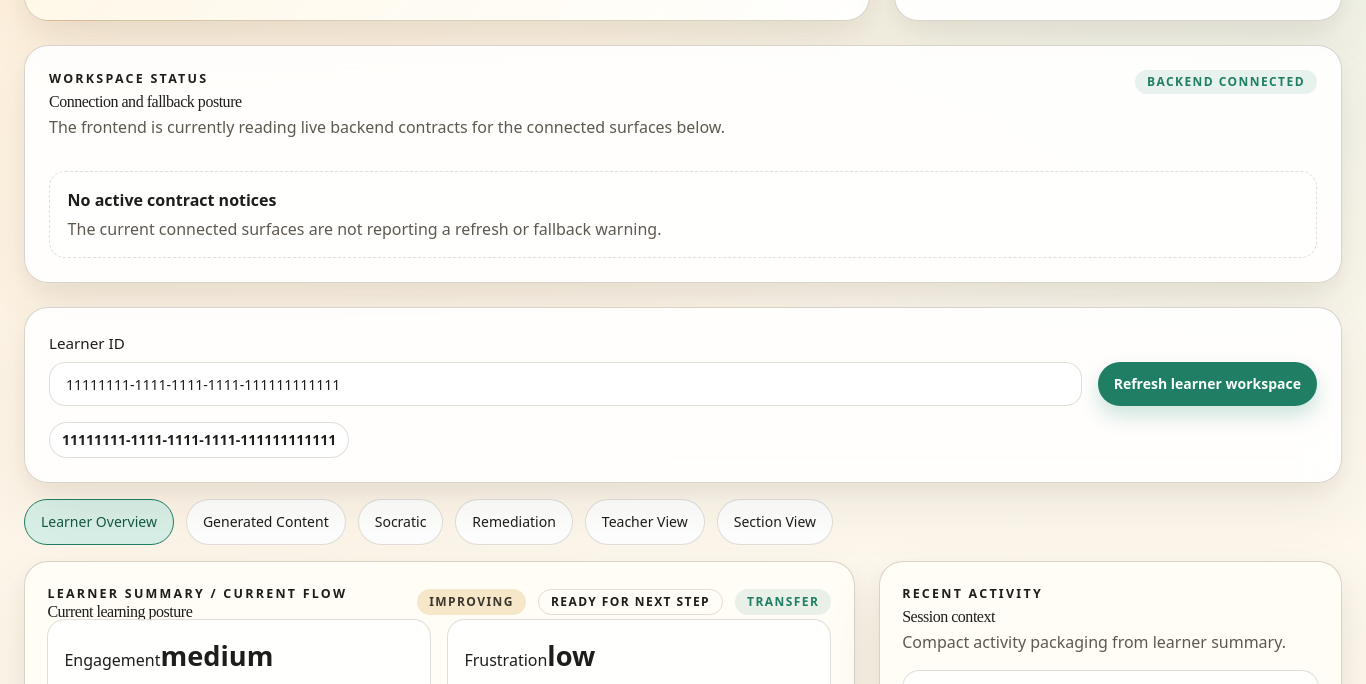
App › keeps shell fallback posture honest when classroom refresh drops to demo after a live boot
(page scrolled)
What coordinates should you click on to do the following:
click the button "Refresh learner workspace"
I would click on:
 (1207, 384)
Its box is [1098,362,1317,406].
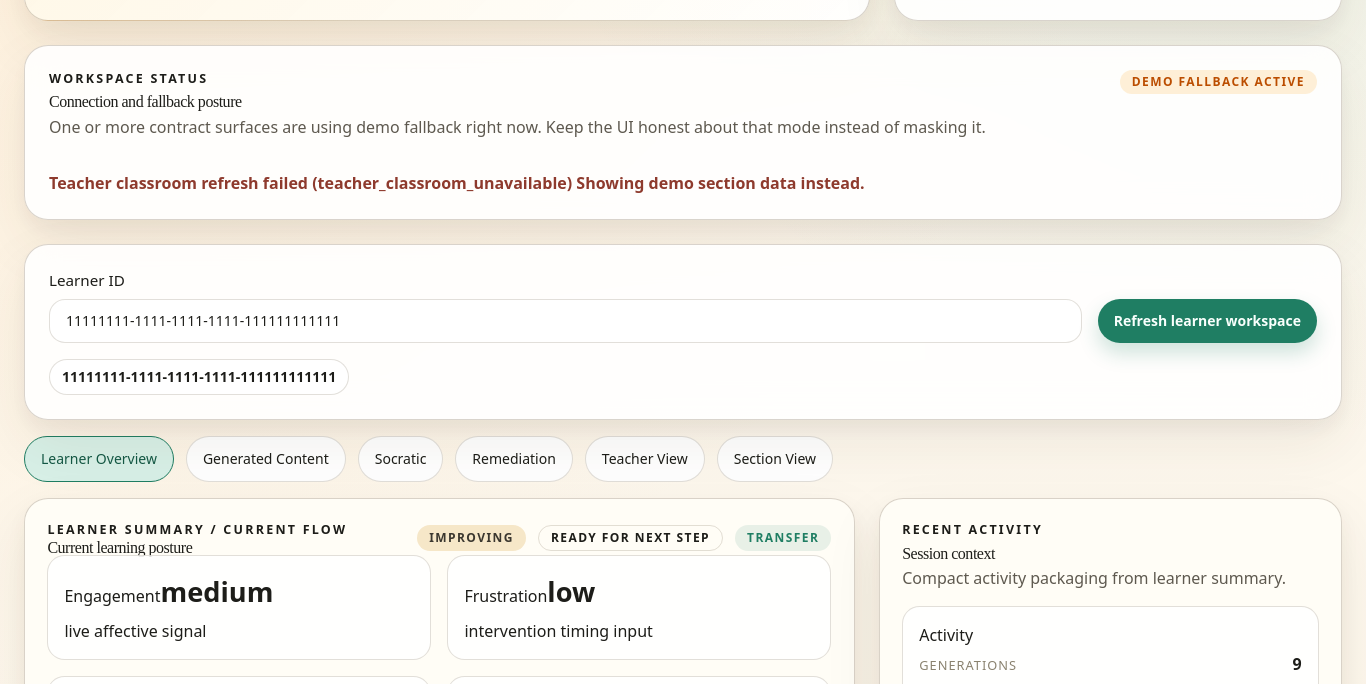
Expected: the text "Demo fallback active" is shown, [1120,70,1317,94]
Expected: the text "Teacher classroom refresh failed (teacher_classroom_unavailable) Showing demo section data instead." is shown, [49,172,865,194]
